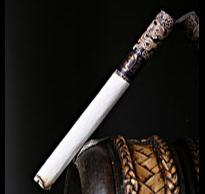Cigarette: (35, 10, 175, 189)
